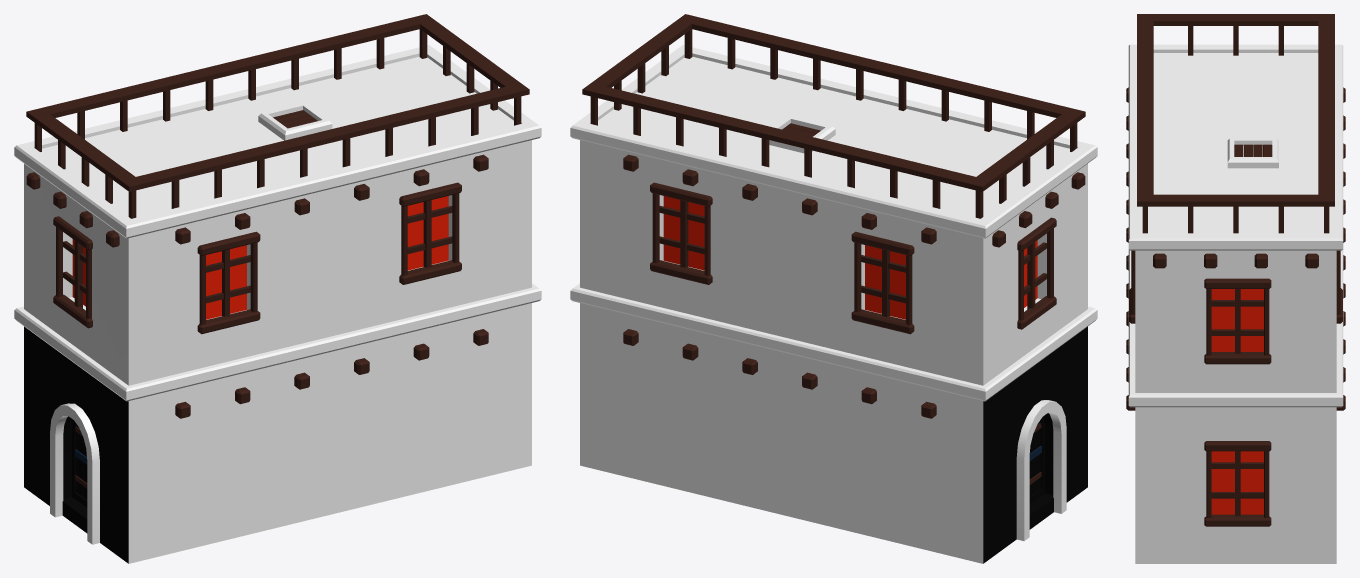
File: civilian_house_34_d.FBX
The picture shows the model from 3 angles, left to right: view 1: azimuth 30°, elevation 25°; view 2: azimuth 150°, elevation 25°; view 3: azimuth 270°, elevation 25°; orthographic projection. The views are drawn at different scales.
Parts seen in each view (by area): view 1: civilian_house_34_d; view 2: civilian_house_34_d; view 3: civilian_house_34_d.
Boxes of the visible parts, box(x1,y1,x2,y2) form: civilian_house_34_d: box(14, 14, 541, 563); civilian_house_34_d: box(570, 14, 1097, 563); civilian_house_34_d: box(1126, 14, 1345, 563).
Size of the model in its own units: 1038 by 891 by 491.
